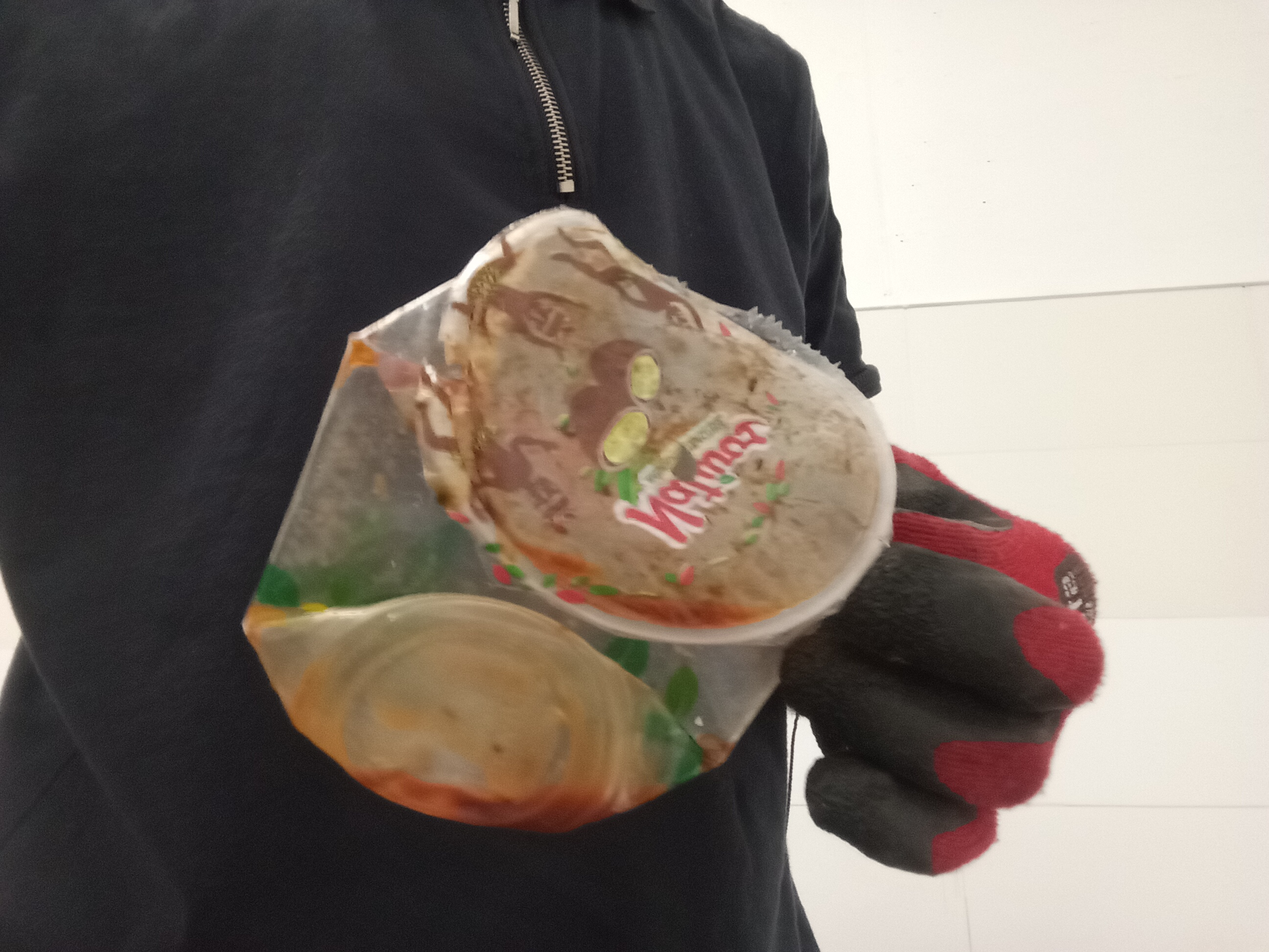Ordinario: (240, 206, 900, 833)
